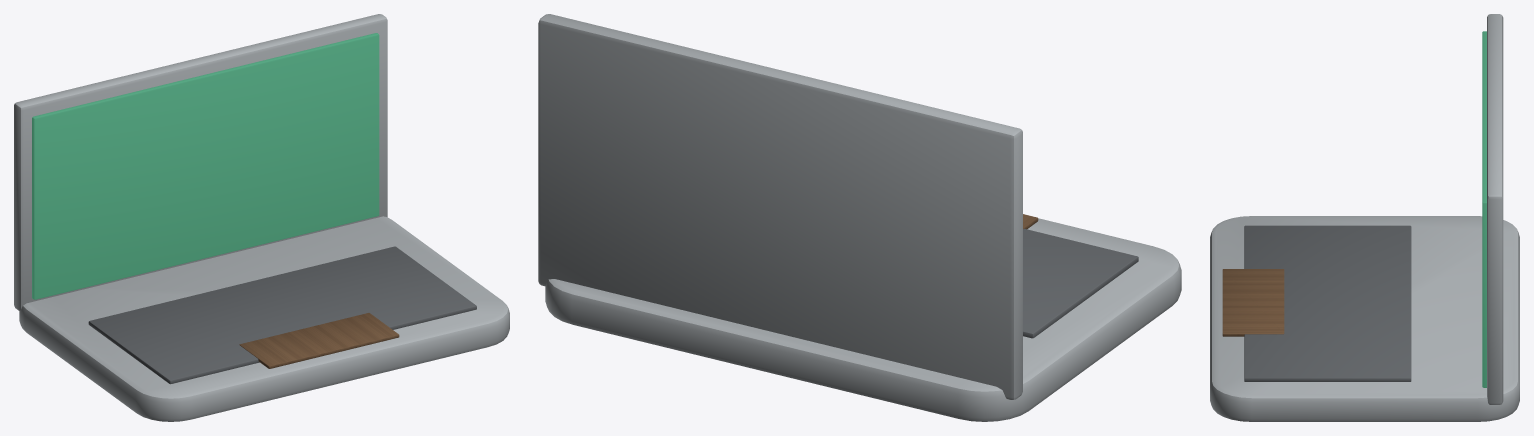
Rendered from laptop_high_end.glb.
The picture shows the model from 3 angles, left to right: view 1: azimuth 30°, elevation 25°; view 2: azimuth 150°, elevation 25°; view 3: azimuth 270°, elevation 25°; orthographic projection. The views are drawn at different scales.
Parts seen in each view (by area): view 1: Laptop_Screen, Laptop_Base, Laptop_Keyboard, Laptop_ScreenBack, Laptop_Trackpad; view 2: Laptop_ScreenBack, Laptop_Base, Laptop_Keyboard; view 3: Laptop_Base, Laptop_Keyboard, Laptop_ScreenBack, Laptop_Trackpad, Laptop_Screen.
Part boxes in pixels (x1,y1,x2,y2): Laptop_Screen: (32, 33, 379, 299); Laptop_Base: (19, 216, 509, 421); Laptop_Keyboard: (88, 246, 476, 384); Laptop_ScreenBack: (14, 14, 387, 311); Laptop_Trackpad: (239, 313, 399, 368); Laptop_ScreenBack: (538, 14, 1022, 399); Laptop_Base: (545, 218, 1181, 421); Laptop_Keyboard: (1023, 228, 1138, 338); Laptop_Base: (1210, 216, 1519, 421); Laptop_Keyboard: (1244, 225, 1411, 381); Laptop_ScreenBack: (1487, 14, 1503, 404); Laptop_Trackpad: (1222, 269, 1284, 336); Laptop_Screen: (1482, 31, 1486, 387).
Size of what is drawn, in the model's own units: 0.3648 by 0.2114 by 0.26.
4 materials, 1 textured.
